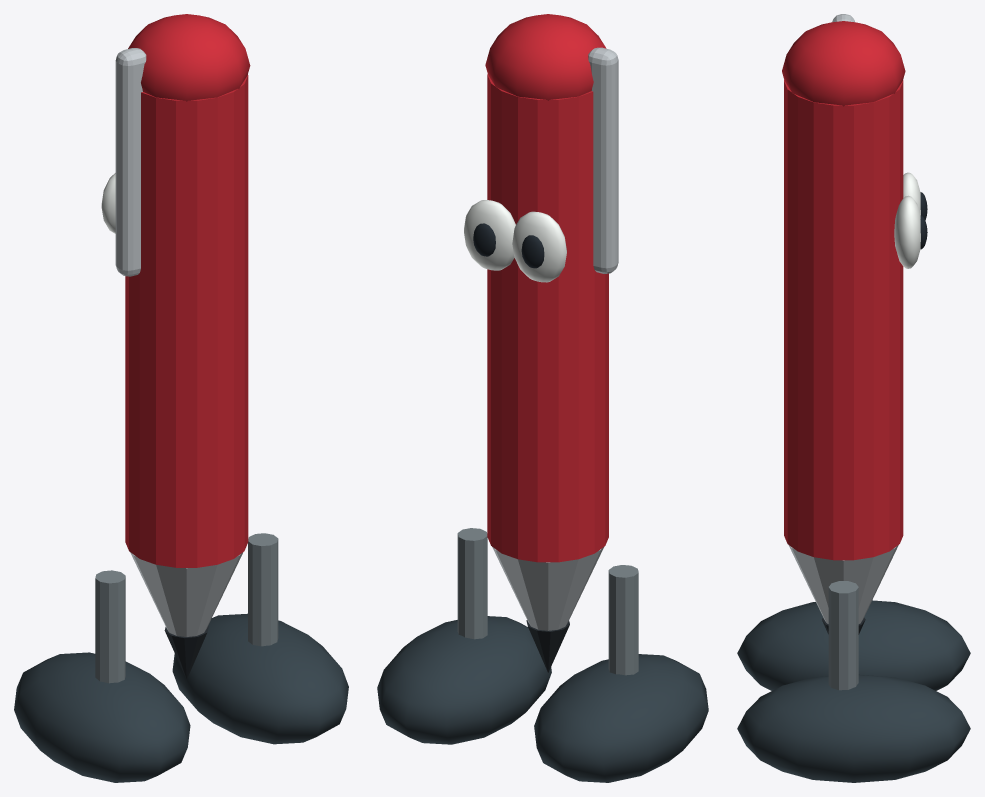
Rendered from pen.glb.
3 views of the same model, side by side, from view 1: azimuth 30°, elevation 25°; view 2: azimuth 150°, elevation 25°; view 3: azimuth 270°, elevation 25° (orthographic). The views are drawn at different scales.
Parts seen in each view (by area): view 1: Writing barrel, Rubber foot.001, Rubber foot, Red cap, Pocket clip, Cone, Flexible leg, Flexible leg.001, Cone.001, Object eye.001; view 2: Writing barrel, Rubber foot.001, Rubber foot, Red cap, Pocket clip, Cone, Flexible leg, Flexible leg.001, Object eye.001, Object eye, Cone.001, Object pupil (+1 smaller); view 3: Writing barrel, Rubber foot, Rubber foot.001, Red cap, Cone, Flexible leg, Object eye, Object eye.001.
Boxes of the visible parts, x1=… form: Writing barrel: x1=125, y1=75, x2=248, y2=567; Rubber foot.001: x1=14, y1=652, x2=190, y2=782; Rubber foot: x1=172, y1=613, x2=348, y2=744; Red cap: x1=128, y1=14, x2=250, y2=101; Pocket clip: x1=115, y1=48, x2=146, y2=276; Cone: x1=130, y1=552, x2=242, y2=636; Flexible leg: x1=248, y1=533, x2=278, y2=646; Flexible leg.001: x1=95, y1=570, x2=125, y2=683; Cone.001: x1=164, y1=626, x2=208, y2=679; Object eye.001: x1=101, y1=173, x2=115, y2=233; Writing barrel: x1=487, y1=74, x2=608, y2=562; Rubber foot.001: x1=534, y1=654, x2=708, y2=782; Rubber foot: x1=377, y1=616, x2=551, y2=744; Red cap: x1=485, y1=14, x2=606, y2=100; Pocket clip: x1=588, y1=47, x2=618, y2=273; Cone: x1=492, y1=546, x2=604, y2=630; Flexible leg: x1=457, y1=528, x2=487, y2=639; Flexible leg.001: x1=608, y1=565, x2=638, y2=675; Object eye.001: x1=512, y1=211, x2=566, y2=282; Object eye: x1=464, y1=200, x2=515, y2=270; Cone.001: x1=526, y1=620, x2=569, y2=672; Object pupil: x1=473, y1=223, x2=495, y2=256; Writing barrel: x1=784, y1=80, x2=903, y2=560; Rubber foot: x1=737, y1=674, x2=970, y2=782; Rubber foot.001: x1=737, y1=600, x2=970, y2=690; Red cap: x1=782, y1=21, x2=905, y2=106; Cone: x1=788, y1=545, x2=898, y2=623; Flexible leg: x1=828, y1=581, x2=858, y2=690; Object eye: x1=894, y1=195, x2=920, y2=268; Object eye.001: x1=903, y1=172, x2=920, y2=215.
Bounding box in the file's own units: 0.4792 × 1.14 × 0.34.
